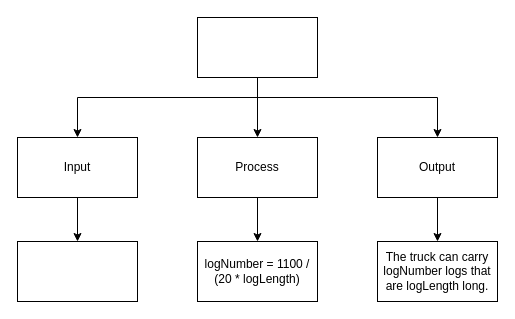
Image size: 515x319. Some labels were removed from this diagram. The box of each missing label's shape, as (x1, y1, x2, y2) in pixels:
Log Calculator: (196, 16, 318, 78)
Size of logs(0.25m, 0.5m, 1m): (16, 240, 138, 302)
